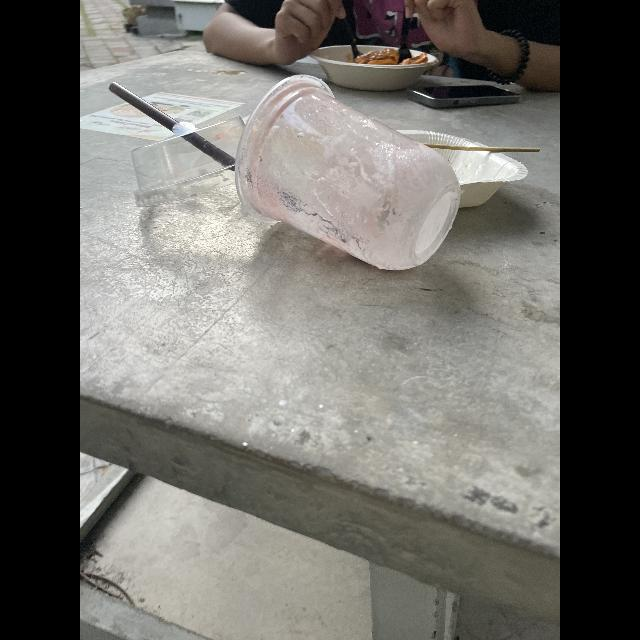cardboard_bowl: (387, 117, 525, 210)
plastic_cup: (232, 72, 458, 270)
plastic_cup_lid: (119, 114, 265, 208)
stick: (415, 140, 545, 154)
straw: (105, 77, 239, 173)
